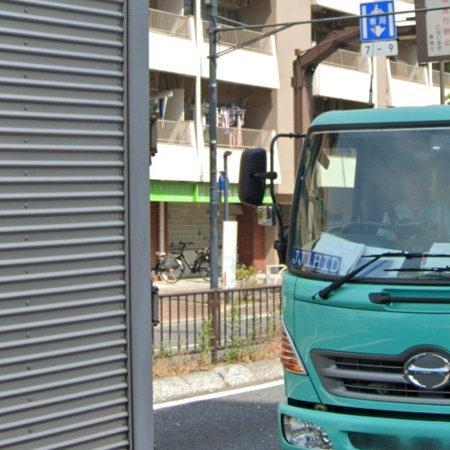buses: (280, 107, 450, 450)
